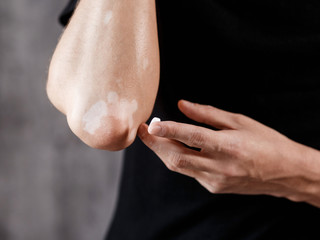vitiligo: (69, 78, 149, 142)
